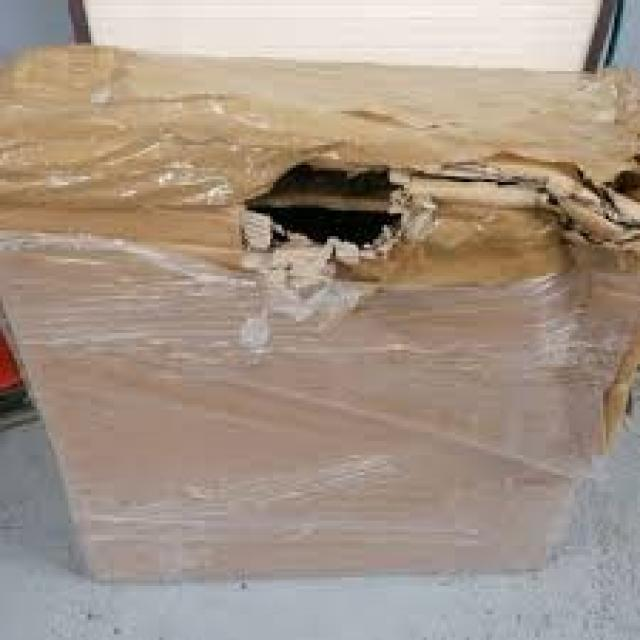hole: (210, 137, 424, 295)
